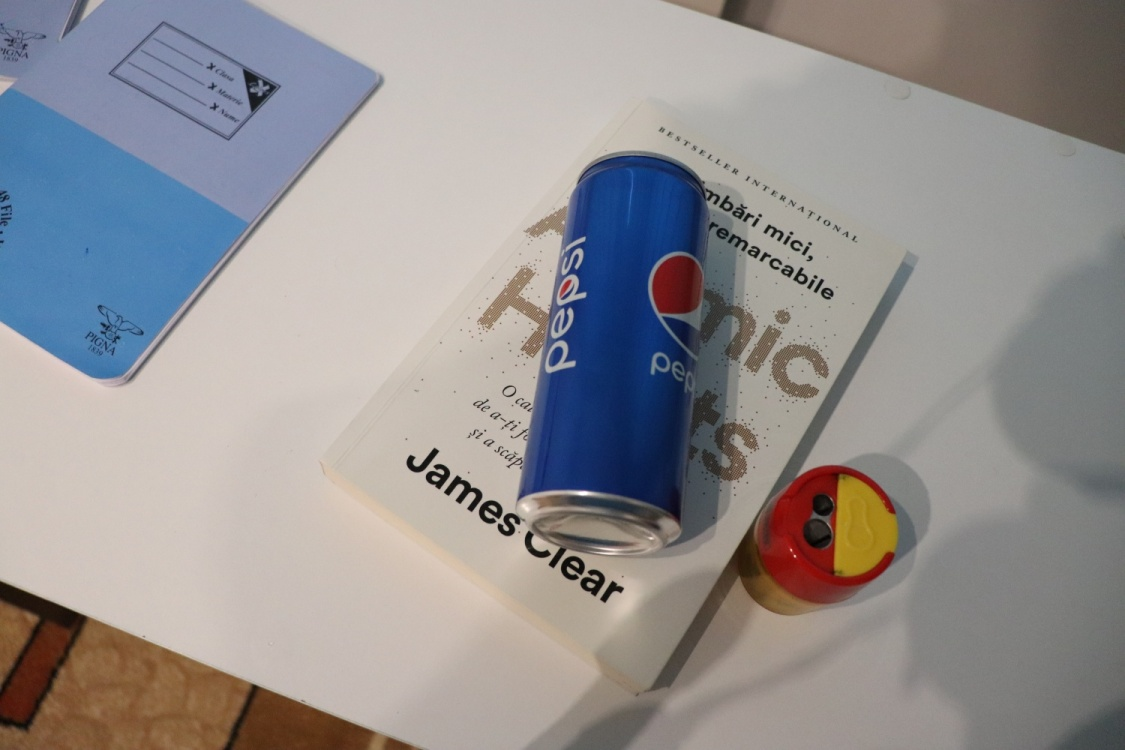pepsi: (513, 146, 711, 561)
